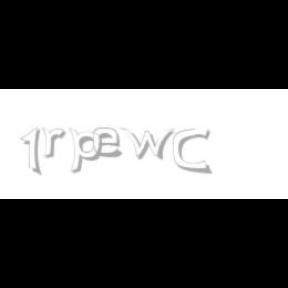1: (20, 128, 42, 176)
C: (174, 128, 210, 174)
e: (93, 128, 126, 158)
p: (70, 128, 106, 174)
r: (42, 128, 68, 158)
w: (120, 128, 180, 160)
